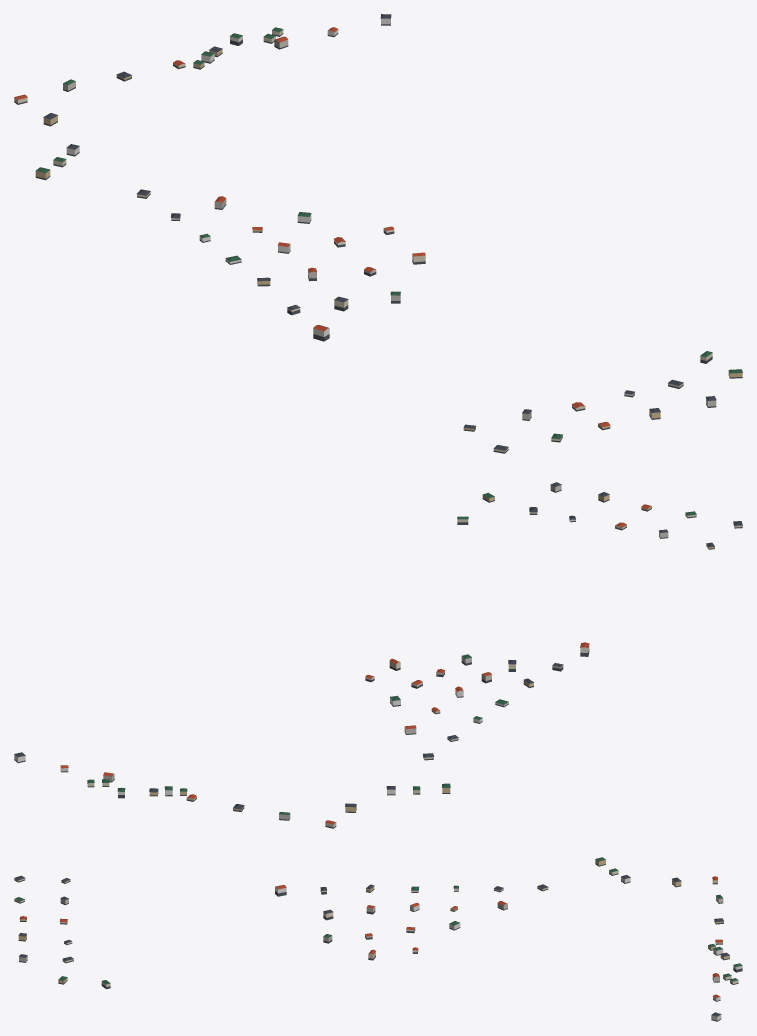
The model's file is buildings_T_W01_S02.glb.
3 views of the same model, one above another, from view 1: azimuth 30°, elevation 25°; view 2: azimuth 150°, elevation 25°; view 3: azimuth 270°, elevation 25° (orthographic). The views are drawn at different scales.
Visible parts, largest first — view 1: T_W01_S02_slope_seating_foundations, T_W01_S02_roofs_roof_slate_French_villa_hip, T_W01_S02_walls_wall_modern_warm_white, T_W01_S02_roofs_roof_pine_green_hip, T_W01_S02_walls_wall_dalat_cream_stucco, T_W01_S02_roofs_roof_terracotta_gable; view 2: T_W01_S02_slope_seating_foundations, T_W01_S02_roofs_roof_slate_French_villa_hip, T_W01_S02_roofs_roof_pine_green_hip; view 3: T_W01_S02_slope_seating_foundations, T_W01_S02_roofs_roof_slate_French_villa_hip, T_W01_S02_walls_wall_modern_warm_white, T_W01_S02_roofs_roof_pine_green_hip, T_W01_S02_roofs_roof_terracotta_gable, T_W01_S02_walls_wall_dalat_cream_stucco, T_W01_S02_walls_wall_pastel_sand_gray, T_W01_S02_walls_wall_french_ochre_villa.
Part boxes in pixels (x1,y1,x2,y2): T_W01_S02_slope_seating_foundations: [14, 23, 742, 453]; T_W01_S02_roofs_roof_slate_French_villa_hip: [43, 14, 716, 450]; T_W01_S02_walls_wall_modern_warm_white: [66, 18, 634, 396]; T_W01_S02_roofs_roof_pine_green_hip: [35, 27, 742, 439]; T_W01_S02_walls_wall_dalat_cream_stucco: [14, 29, 712, 452]; T_W01_S02_roofs_roof_terracotta_gable: [14, 27, 610, 427]; T_W01_S02_slope_seating_foundations: [14, 489, 742, 828]; T_W01_S02_roofs_roof_slate_French_villa_hip: [14, 482, 742, 809]; T_W01_S02_roofs_roof_pine_green_hip: [87, 492, 696, 814]; T_W01_S02_slope_seating_foundations: [14, 863, 742, 1021]; T_W01_S02_roofs_roof_slate_French_villa_hip: [14, 875, 729, 1016]; T_W01_S02_walls_wall_modern_warm_white: [64, 877, 742, 1020]; T_W01_S02_roofs_roof_pine_green_hip: [14, 857, 742, 984]; T_W01_S02_roofs_roof_terracotta_gable: [19, 876, 722, 998]; T_W01_S02_walls_wall_dalat_cream_stucco: [14, 870, 738, 986]; T_W01_S02_walls_wall_pastel_sand_gray: [19, 888, 723, 981]; T_W01_S02_walls_wall_french_ochre_villa: [18, 859, 729, 983].
Bounding box in the file's own units: 804 × 65.66 × 1609.
